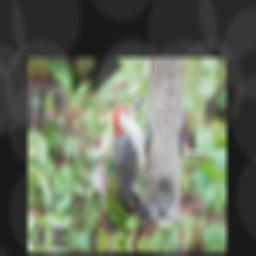Woodpecker: (106, 94, 163, 233)
